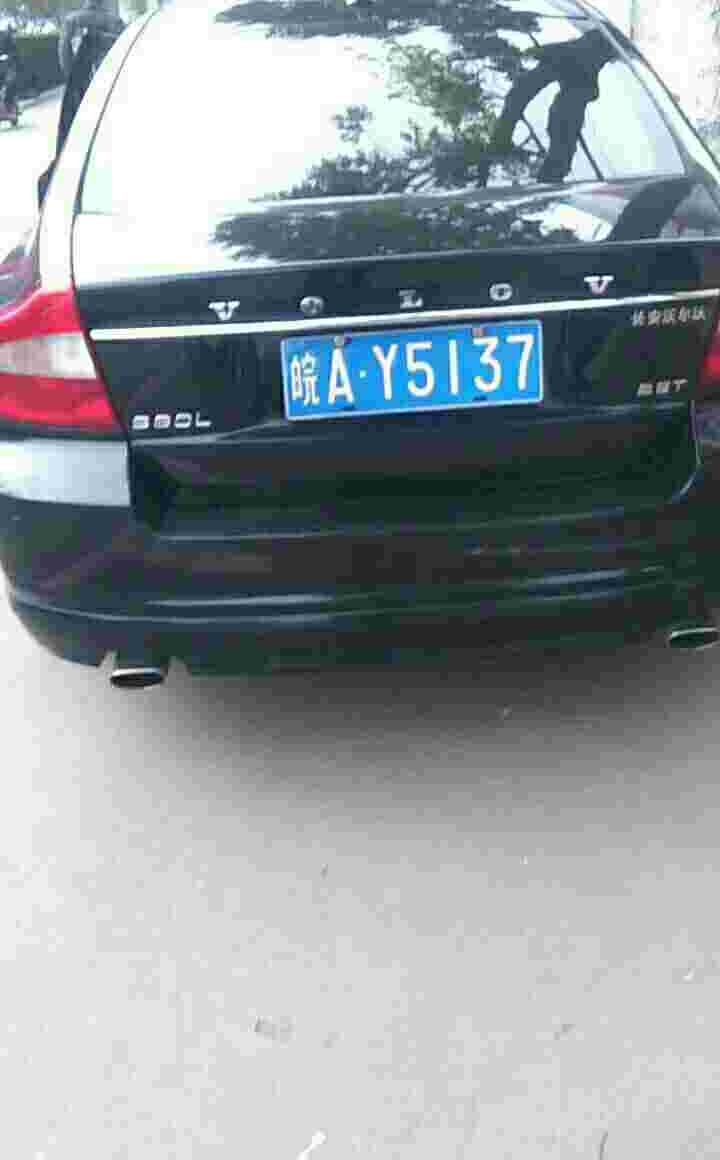license_plate: (283, 318, 529, 426)
